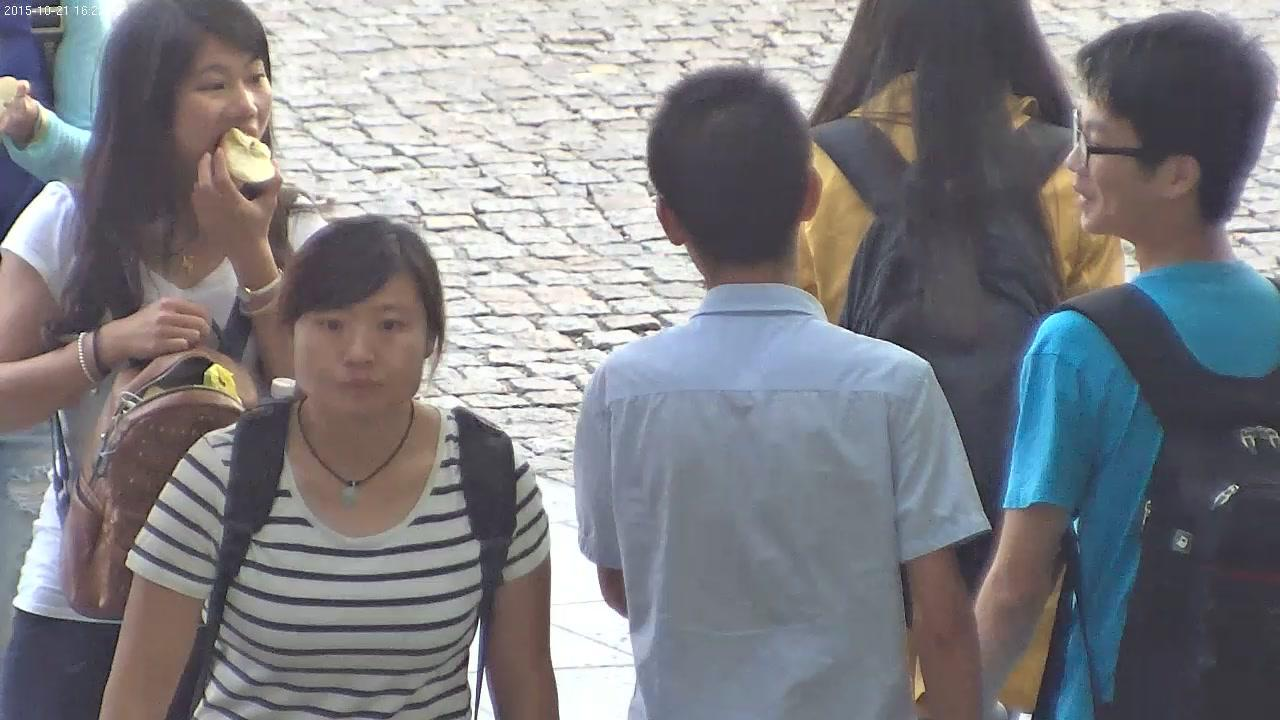person: (572, 64, 995, 720), (0, 0, 331, 720), (98, 213, 561, 720), (973, 8, 1278, 719), (797, 0, 1127, 588), (0, 0, 106, 646)
